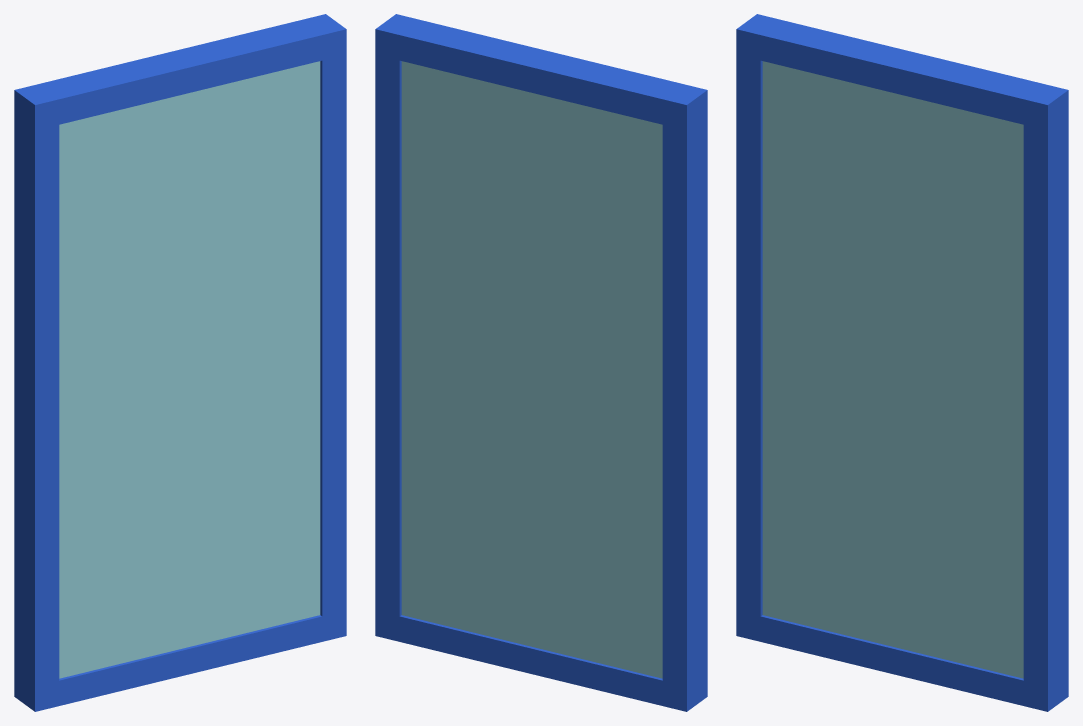
File: door2.fbx
3 views of the same model, side by side, from view 1: azimuth 30°, elevation 25°; view 2: azimuth 150°, elevation 25°; view 3: azimuth 330°, elevation 25° (orthographic).
Parts seen in each view (by area): view 1: Cube.050; view 2: Cube.050; view 3: Cube.050.
Part boxes in pixels (x1,y1,x2,y2): Cube.050: (14,14,346,711); Cube.050: (375,14,707,711); Cube.050: (736,14,1068,711).
Size of the model in its own units: 2.26 by 4.22 by 0.2613.
